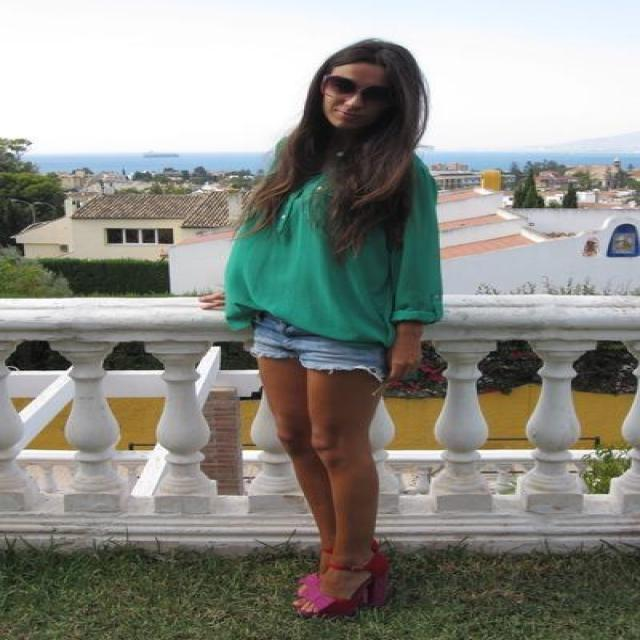shirt: (223, 170, 442, 362)
shoe: (293, 547, 402, 624)
shorts: (226, 303, 380, 380)
sunglass: (310, 60, 402, 106)
